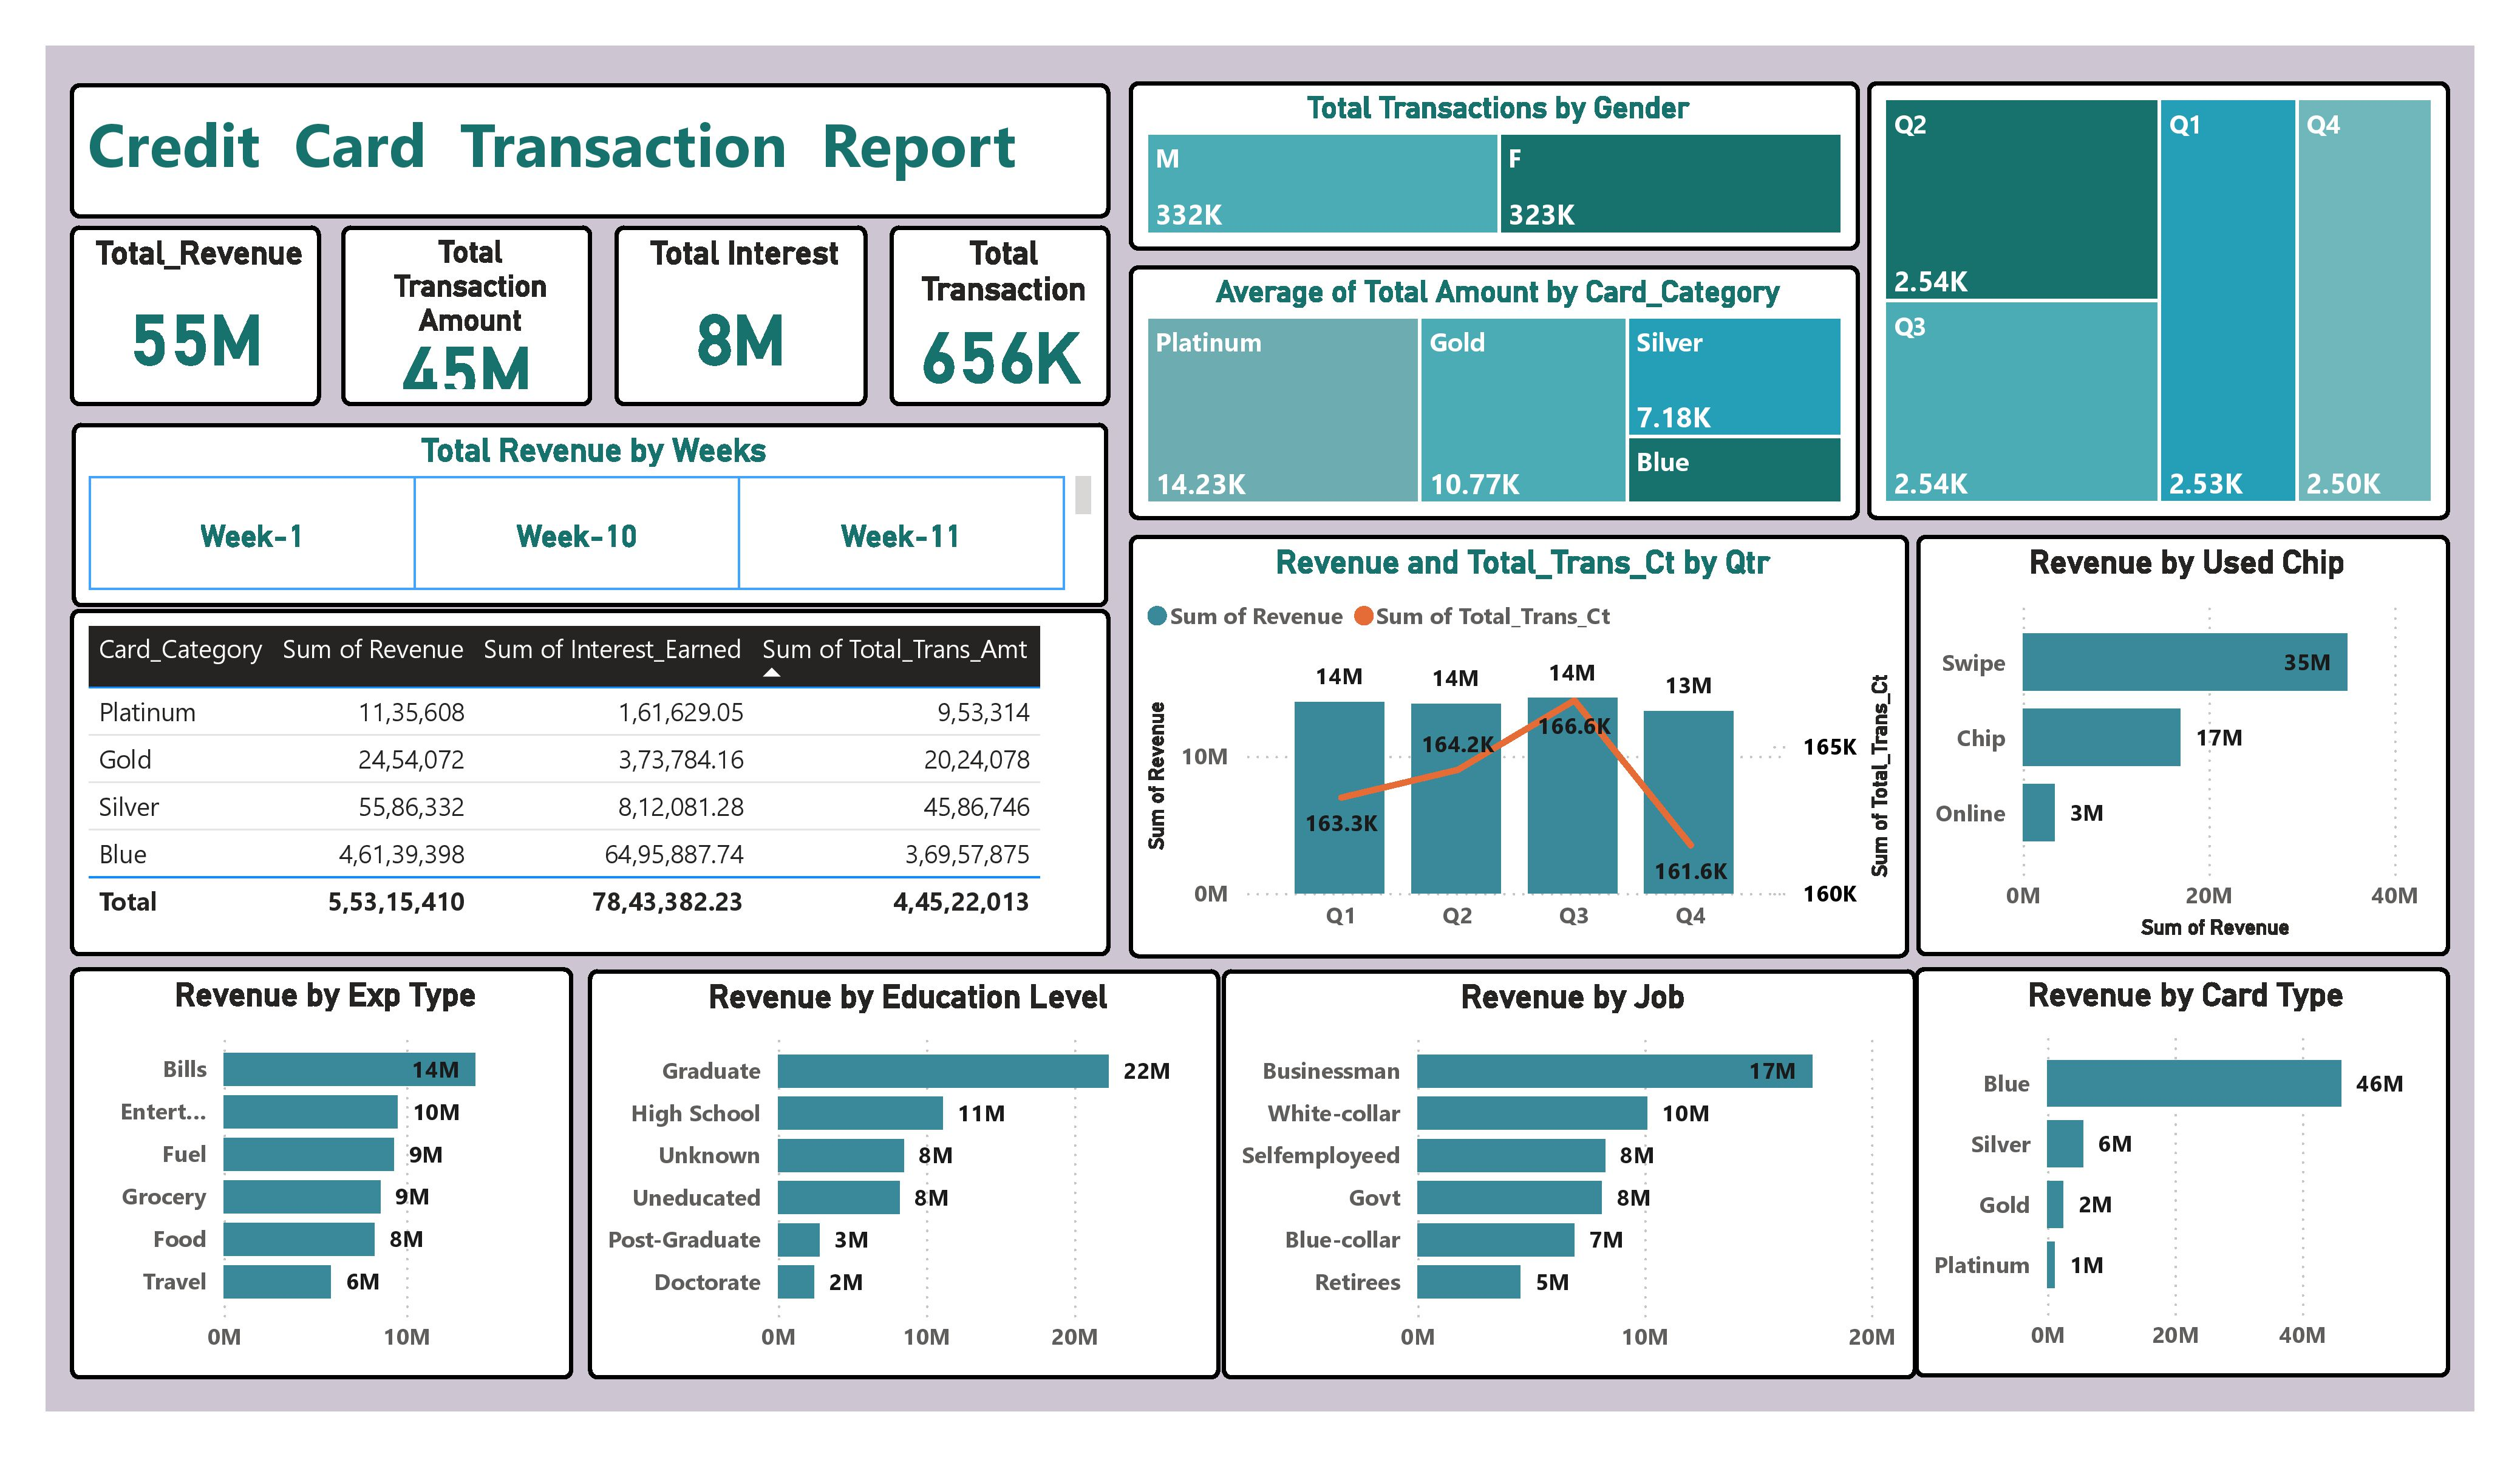

Layout of this report page (visuals, bound fields, positions):
{"tool":"powerbi","page":{"name":"Dashboard","canvas":[1280,720],"ordinal":0},"visuals":[{"type":"textbox","box":[13.2,19.6,547.6,71.8],"z":0},{"type":"lineStackedColumnComboChart","title":"Revenue and Total_Trans_Ct by Qtr","fields":{"Category":["public cc_detail.Qtr"],"Y":["Sum(public cc_detail.Revenue)"],"Y2":["Sum(public cc_detail.Total_Trans_Vol)"]},"box":[570.7,257.7,411.2,223.8],"z":1000},{"type":"barChart","title":"Revenue by Exp Type","fields":{"Y":["Sum(public cc_detail.Revenue)"],"Category":["public cc_detail.Exp Type"]},"box":[13.4,486,264.2,217.2],"z":2000},{"type":"barChart","title":"Revenue by Education Level","fields":{"Y":["Sum(public cc_detail.Revenue)"],"Category":["public cust_detail.Education_Level"]},"box":[286.1,487.2,333,216],"z":3000},{"type":"barChart","title":"Revenue by Job","fields":{"Y":["Sum(public cc_detail.Revenue)"],"Category":["public cust_detail.Customer_Job"]},"box":[620.3,487.2,365.6,216],"z":4000},{"type":"barChart","title":"Revenue by Card Type","fields":{"Y":["Sum(public cc_detail.Revenue)"],"Category":["public cc_detail.Card_Category"]},"box":[985.3,486.4,281.7,215.8],"z":5000},{"type":"barChart","title":"Revenue by Used Chip","fields":{"Y":["Sum(public cc_detail.Revenue)"],"Category":["public cc_detail.Use Chip"]},"box":[985.7,257.7,281.2,222.5],"z":6000},{"type":"tableEx","fields":{"Values":["public cc_detail.Card_Category","Sum(public cc_detail.Revenue)","Sum(public cc_detail.Interest_Earned)","Sum(public cc_detail.Total_Trans_Amt)"]},"box":[13.8,298.8,547.5,183.8],"z":7000},{"type":"card","title":"Total_Revenue","fields":{"Values":["Sum(public cc_detail.Revenue)"]},"box":[13.4,95.1,131.5,95.3],"z":8000},{"type":"card","title":"Total Transaction Amount ","fields":{"Values":["Sum(public cc_detail.Total_Trans_Amt)"]},"box":[155.6,94.7,132.9,95.7],"z":9000},{"type":"card","title":"Total Interest","fields":{"Values":["Sum(public cc_detail.Interest_Earned)"]},"box":[300,95,132.9,95.1],"z":10000},{"type":"card","title":"Total Transaction","fields":{"Values":["Sum(public cc_detail.Total_Trans_Ct)"]},"box":[445.1,95,115.8,95.1],"z":11000},{"type":"advancedSlicerVisual","title":"Total Revenue by Weeks","fields":{"Values":["public cc_detail.Week_Num"]},"box":[13.8,195,546.2,97.5],"z":12000},{"type":"treemap","fields":{"Group":["public cc_detail.Qtr"],"Values":["CountNonNull(public cc_detail.Client_Num)"]},"box":[959.6,19.4,307.8,231.1],"z":13000},{"type":"treemap","title":"Total Transactions by Gender","fields":{"Group":["public cust_detail.Gender"],"Values":["Sum(public cc_detail.Total_Trans_Ct)"]},"box":[570.7,19,385,88.8],"z":14000},{"type":"treemap","title":"Average of  Total Amount by Card_Category","fields":{"Group":["public cc_detail.Card_Category"],"Values":["Avg(public cc_detail.Total_Trans_Amt)"]},"box":[571.2,116.2,385,133.8],"z":15000}]}

Visuals, with their boxes in screenshot pixels (x1, y1, x2, y2):
textbox: [x1=70, y1=83, x2=1110, y2=219]
"Revenue and Total_Trans_Ct by Qtr" lineStackedColumnComboChart: [x1=1128, y1=534, x2=1909, y2=959]
"Revenue by Exp Type" barChart: [x1=71, y1=968, x2=572, y2=1379]
"Revenue by Education Level" barChart: [x1=588, y1=970, x2=1221, y2=1379]
"Revenue by Job" barChart: [x1=1222, y1=970, x2=1916, y2=1379]
"Revenue by Card Type" barChart: [x1=1915, y1=968, x2=2450, y2=1377]
"Revenue by Used Chip" barChart: [x1=1916, y1=534, x2=2450, y2=957]
tableEx - public cc_detail.Card_Category x Sum(public cc_detail.Revenue): [x1=72, y1=613, x2=1111, y2=961]
"Total_Revenue" card: [x1=71, y1=226, x2=321, y2=407]
"Total Transaction Amount " card: [x1=341, y1=225, x2=593, y2=407]
"Total Interest" card: [x1=615, y1=226, x2=867, y2=406]
"Total Transaction" card: [x1=890, y1=226, x2=1110, y2=406]
"Total Revenue by Weeks" advancedSlicerVisual: [x1=72, y1=415, x2=1108, y2=600]
treemap - public cc_detail.Qtr x CountNonNull(public cc_detail.Client_Num): [x1=1867, y1=83, x2=2451, y2=521]
"Total Transactions by Gender" treemap: [x1=1128, y1=81, x2=1859, y2=250]
"Average of  Total Amount by Card_Category" treemap: [x1=1129, y1=266, x2=1860, y2=520]
